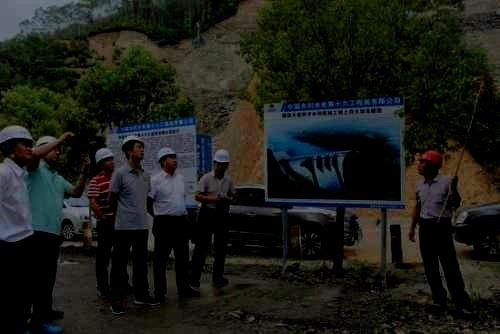helmet: (1, 126, 34, 161), (35, 135, 61, 166), (418, 150, 443, 174), (121, 135, 145, 160), (157, 147, 178, 170), (95, 148, 115, 171), (213, 150, 230, 175)
